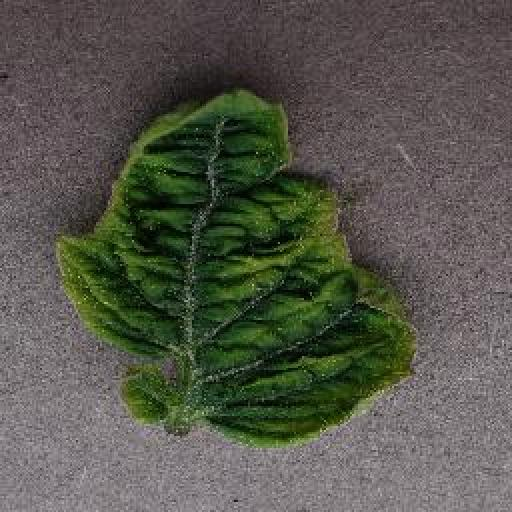disease_tomato: (55, 85, 417, 451)
